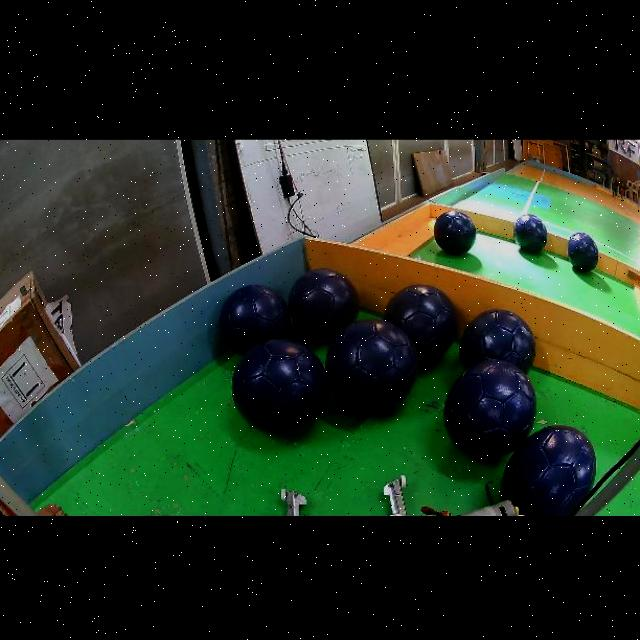B: (232, 337, 328, 434), (444, 358, 536, 458), (500, 425, 596, 515), (327, 318, 418, 411), (384, 284, 457, 362), (289, 267, 359, 339), (460, 309, 536, 373), (219, 284, 290, 352), (434, 209, 477, 255), (513, 213, 547, 252), (567, 231, 598, 272)
